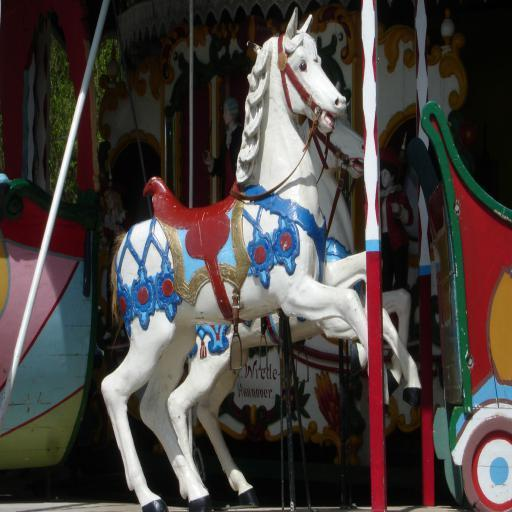horse: (98, 6, 390, 512), (168, 80, 414, 505)
